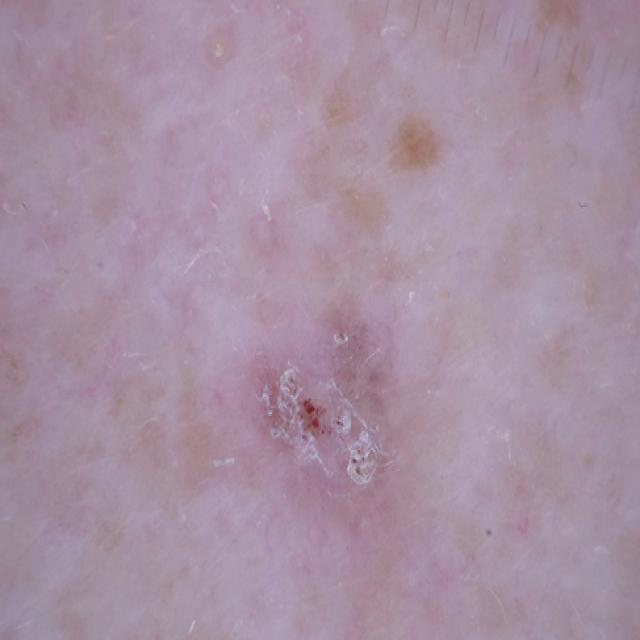Keratosis: (225, 255, 446, 553)
